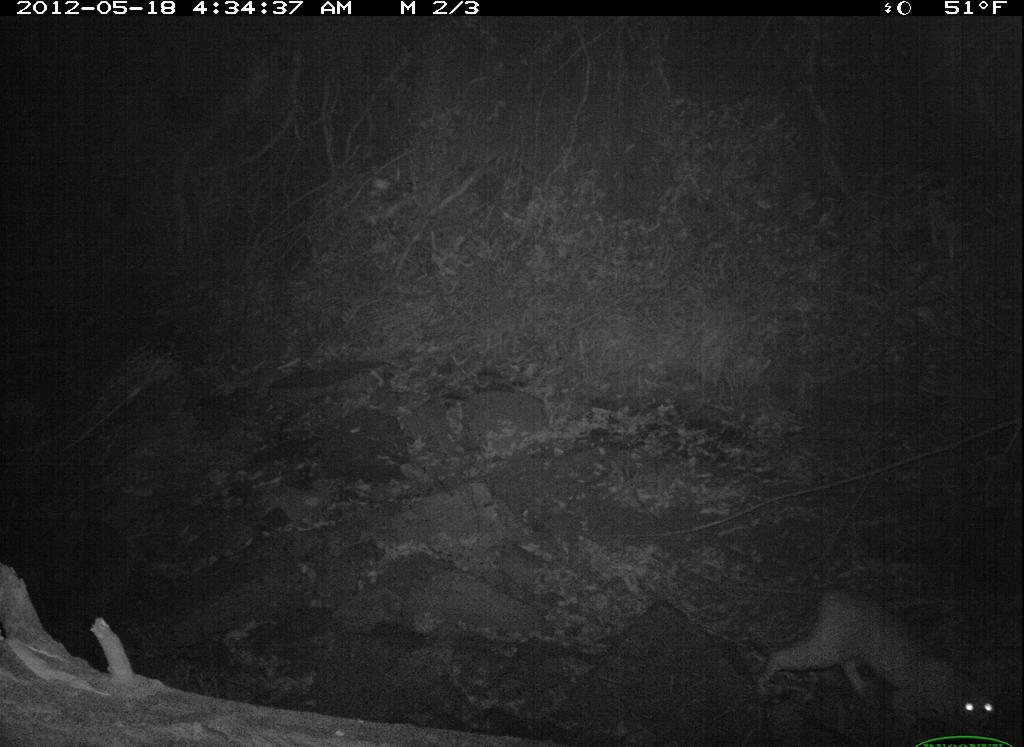bobcat: (744, 556, 1013, 747)
